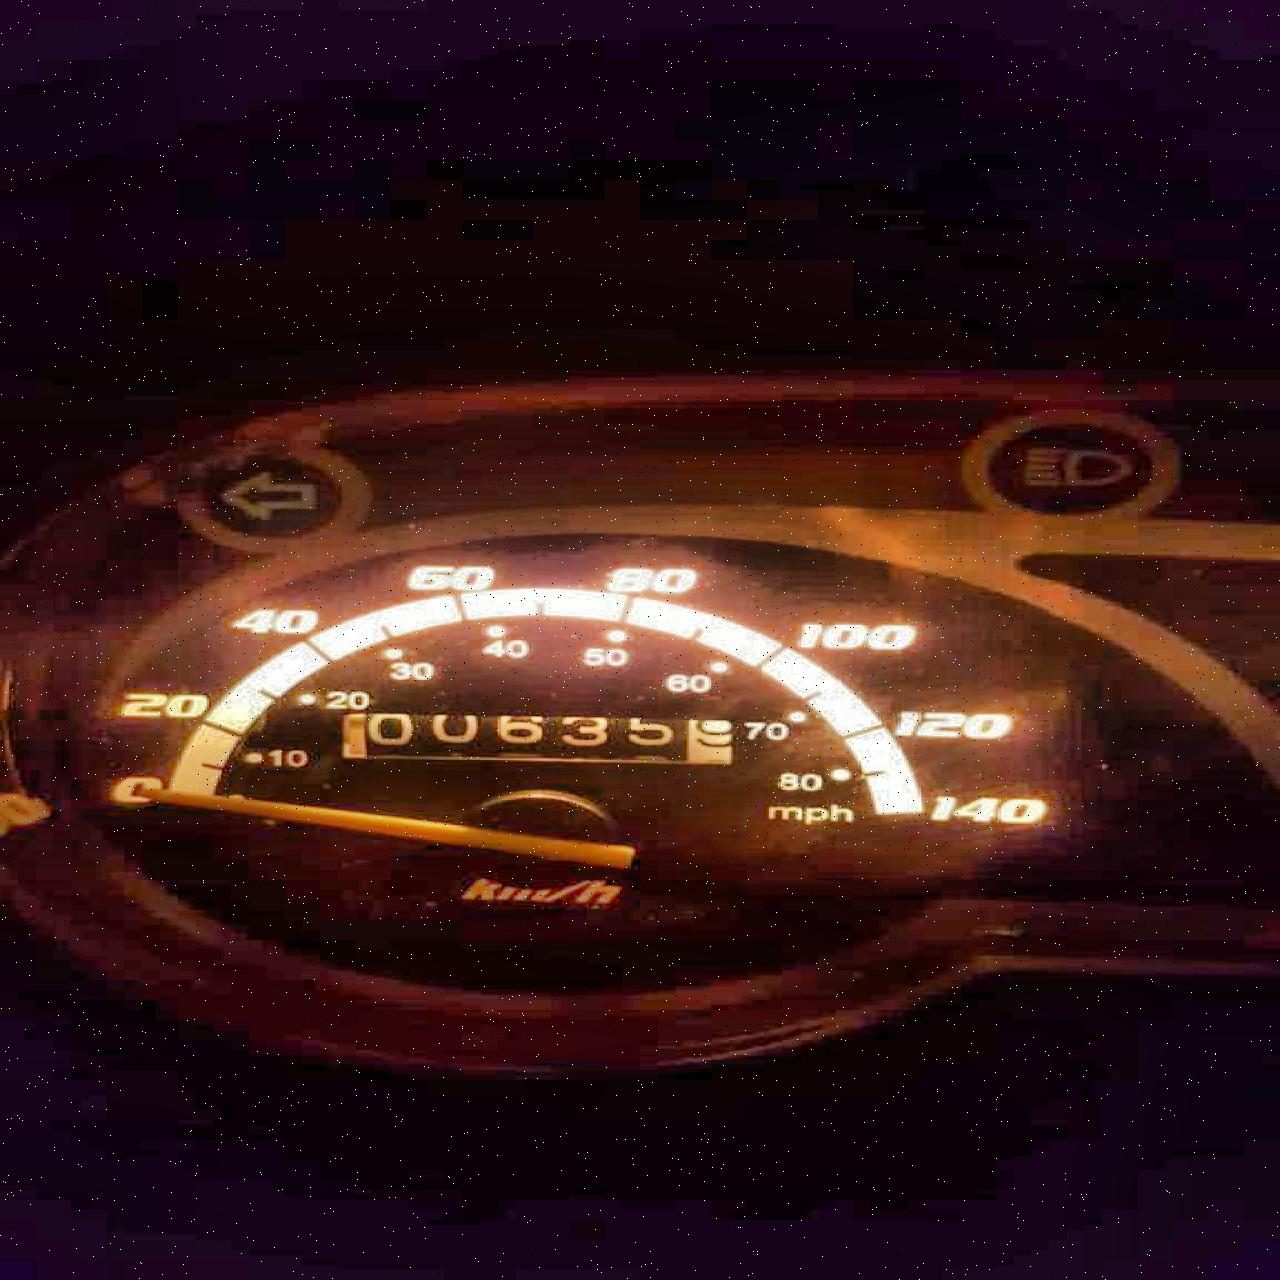0: (362, 712, 416, 749), (429, 712, 482, 745)
3: (560, 714, 611, 749)
5: (622, 714, 678, 748)
6: (491, 712, 546, 744)
9: (692, 716, 736, 750)
odometer: (334, 710, 742, 769)
